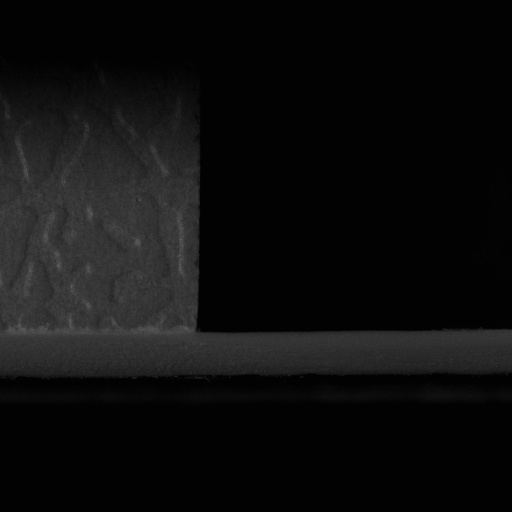changdai: (192, 327, 511, 377)
